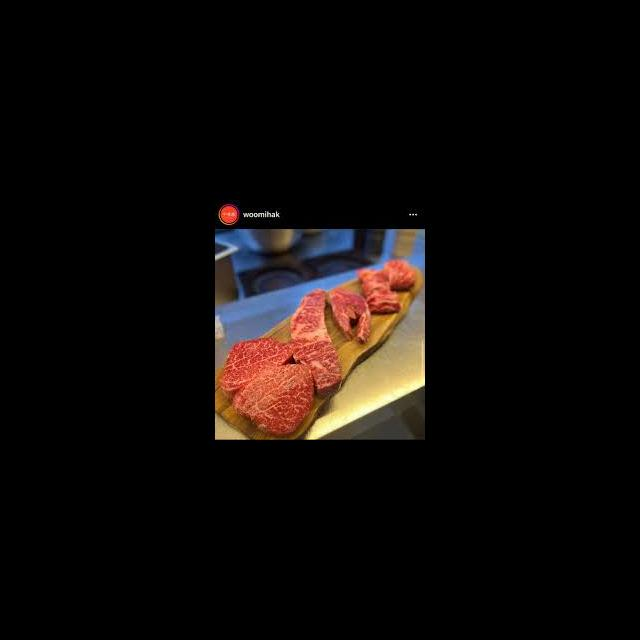beef: (223, 340, 311, 434), (296, 290, 339, 393), (333, 287, 374, 343)
